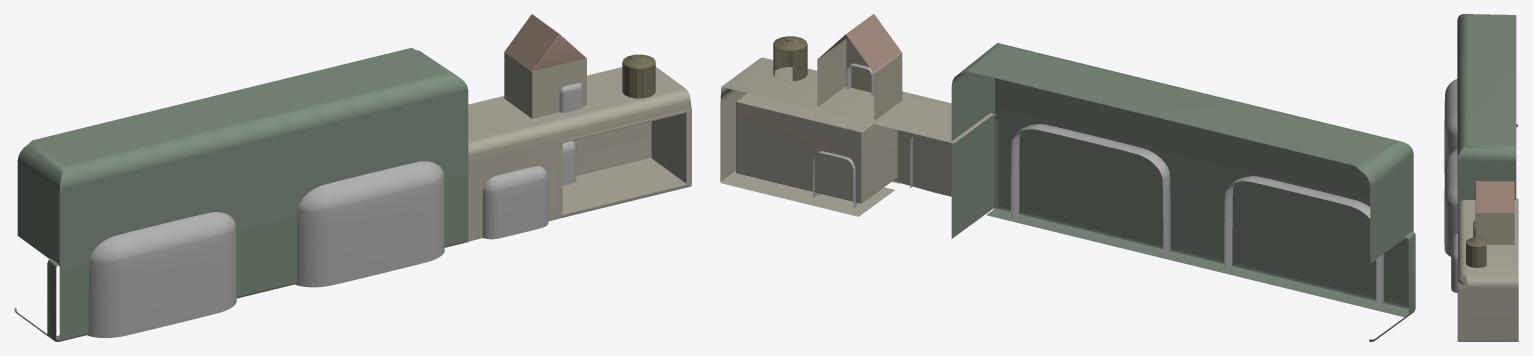
File: home 6.fbx
The picture shows the model from 3 angles, left to right: view 1: azimuth 30°, elevation 25°; view 2: azimuth 150°, elevation 25°; view 3: azimuth 270°, elevation 25°; orthographic projection. The views are drawn at different scales.
Parts seen in each view (by area): view 1: polySurface3886; view 2: polySurface3886; view 3: polySurface3886.
Part boxes in pixels (bbox=[...]): polySurface3886: bbox=[14, 14, 691, 341]; polySurface3886: bbox=[720, 14, 1415, 341]; polySurface3886: bbox=[1444, 14, 1518, 341].
Size of the model in its own units: 211 by 55.12 by 30.4.
